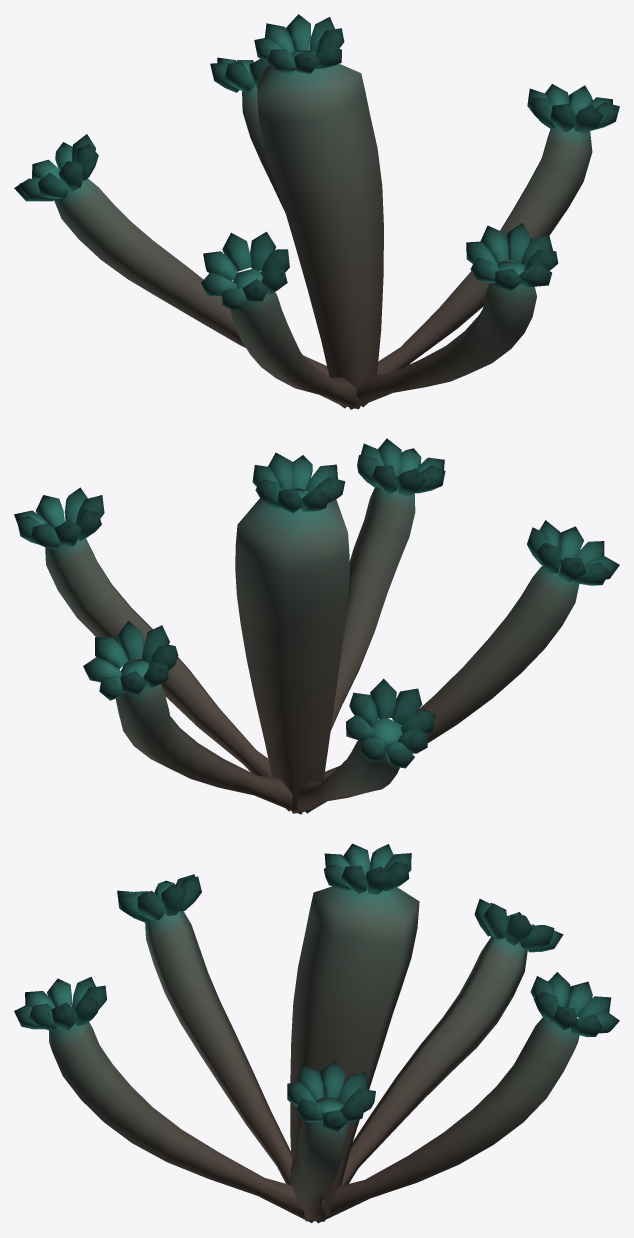
The model's file is plants-cacti-succulents-fan-succulent_v6.glb.
3 renders of one model, top to bottom at view 1: azimuth 30°, elevation 25°; view 2: azimuth 150°, elevation 25°; view 3: azimuth 270°, elevation 25°, orthographic. The views are drawn at different scales.
Visible parts, largest first — view 1: Fan Succulent_v6; view 2: Fan Succulent_v6; view 3: Fan Succulent_v6.
Part boxes in pixels (<box>): Fan Succulent_v6: <box>14,14,619,409</box>; Fan Succulent_v6: <box>14,438,619,814</box>; Fan Succulent_v6: <box>14,843,619,1223</box>.
Bounding box in the file's own units: 0.2801 × 0.194 × 0.3.
